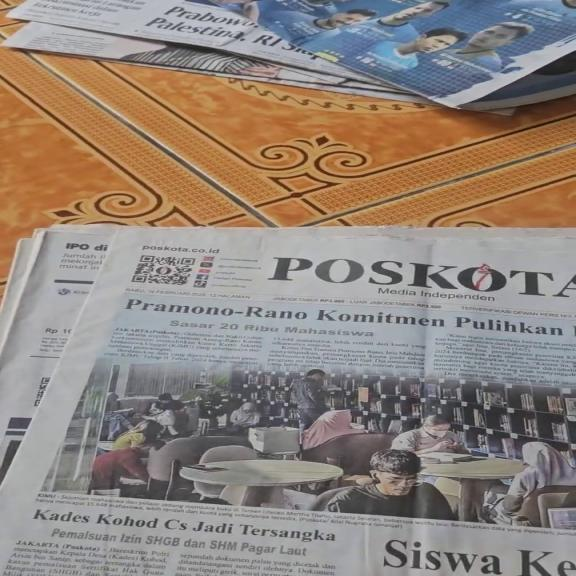Kertas: (2, 225, 566, 573)
